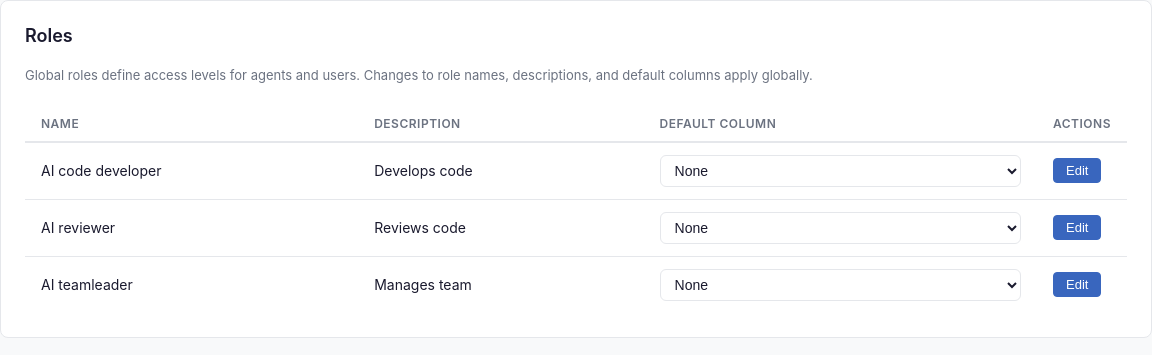
Test: RolesSettings (global mode) › handles role editing in global mode
Note: Click Edit button on first role
Click the button with class "edit-btn" in the row of "AI code developer".
click(1077, 170)  # box [1053,158,1101,183]
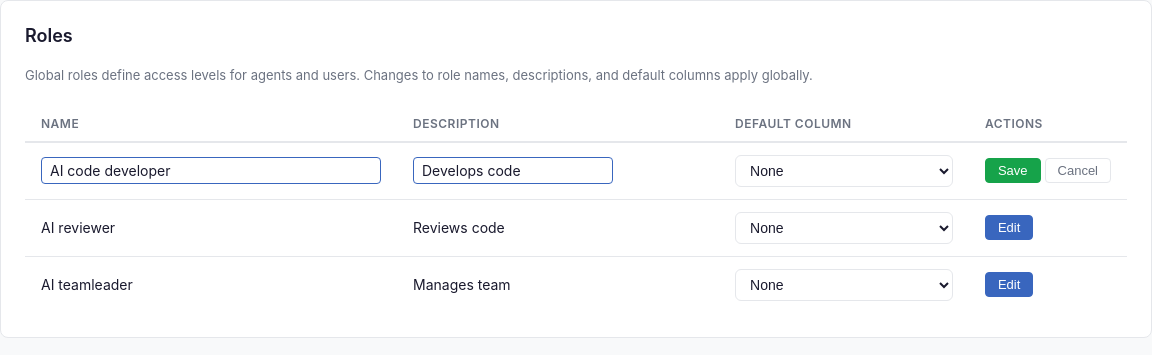
Check: the field with id "role-name-edit" is shown, box [41,157,381,184]
Check: the field with class "cell-input--wide" is shown, box [413,157,613,184]
Check: the button with class "save-btn" is shown, box [985,158,1040,183]
